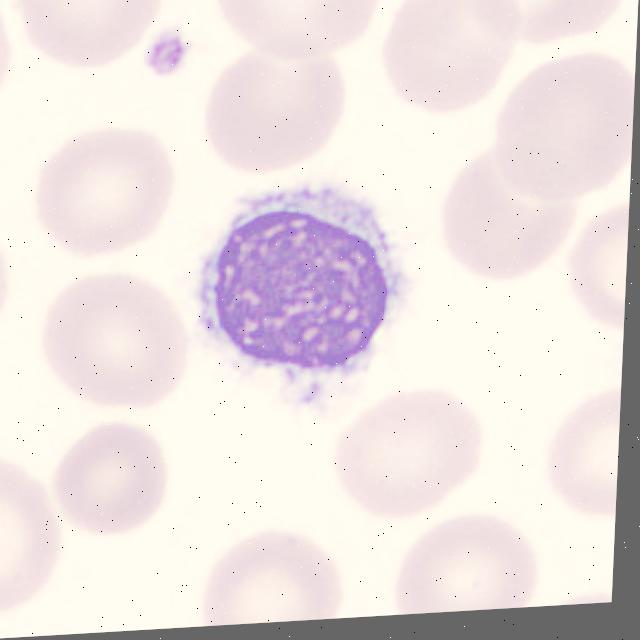lymphocyte: (188, 174, 405, 399)
platelets: (141, 30, 189, 85)
rbc: (501, 52, 636, 204), (336, 388, 487, 520), (38, 275, 183, 411), (29, 125, 175, 254), (440, 143, 572, 278), (206, 40, 347, 164), (198, 519, 349, 626), (384, 0, 522, 116), (52, 416, 178, 536), (400, 521, 533, 615), (0, 451, 67, 613), (216, 0, 390, 57), (547, 394, 621, 524), (22, 0, 163, 66), (471, 0, 626, 47), (576, 206, 629, 334), (0, 0, 20, 106), (0, 215, 9, 339), (548, 593, 612, 606)
